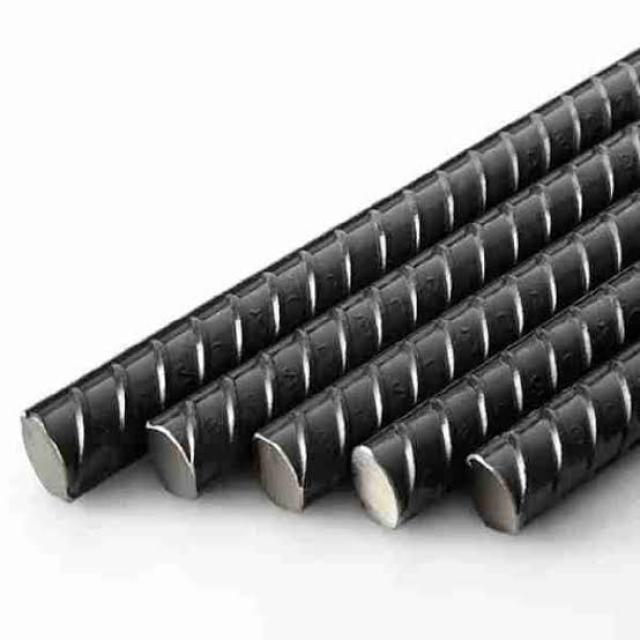Rebar: (15, 409, 92, 534), (239, 428, 309, 525), (345, 437, 410, 539), (142, 419, 206, 516), (467, 446, 532, 541)
